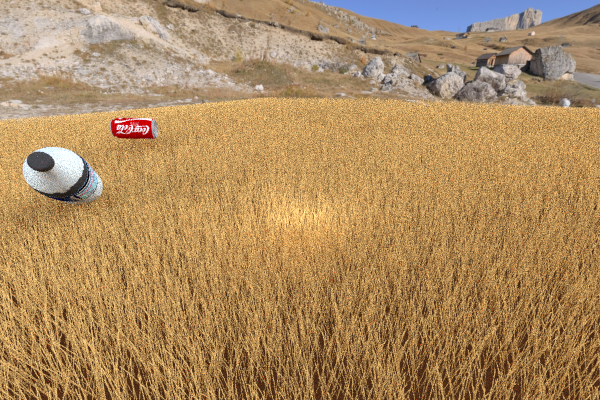Plastic Bottle: (22, 146, 102, 204), (519, 100, 575, 122), (109, 117, 158, 139)
